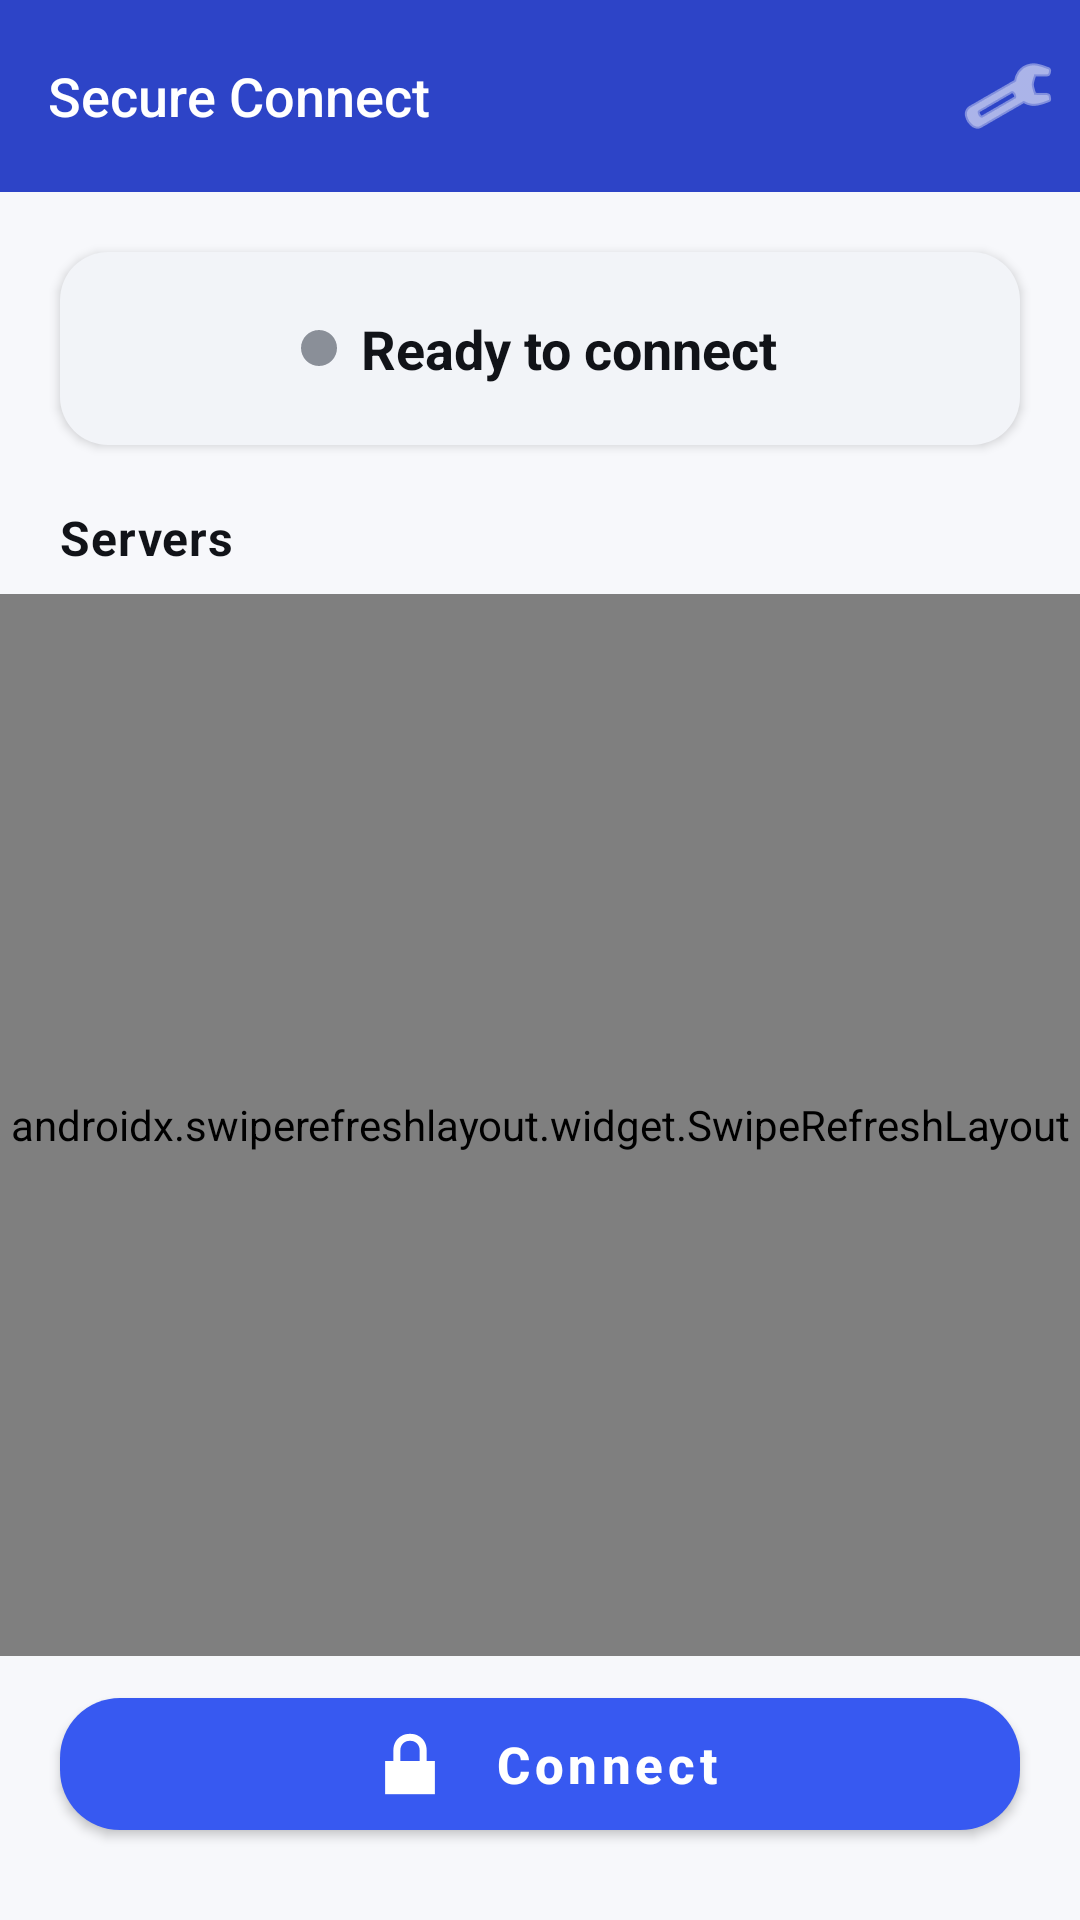

Named icons in this screenshot (1080x1920) and their bounding boxes, (x1, y1, x2, y2):
Settings: (965, 63, 1051, 129)
